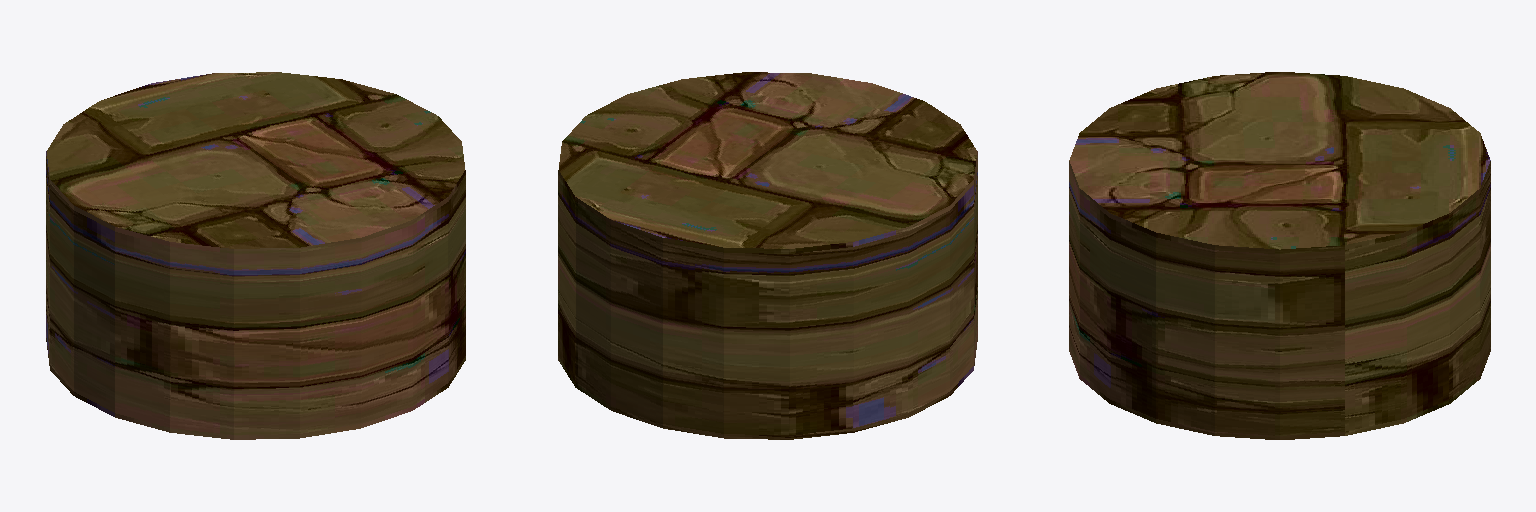
3 renders of one model, left to right at view 1: azimuth 30°, elevation 25°; view 2: azimuth 150°, elevation 25°; view 3: azimuth 270°, elevation 25°, orthographic.
Parts seen in each view (by area): view 1: pCylinder1; view 2: pCylinder1; view 3: pCylinder1.
Part boxes in pixels (bbox=[...]): pCylinder1: bbox=[46, 72, 465, 439]; pCylinder1: bbox=[558, 72, 977, 439]; pCylinder1: bbox=[1069, 72, 1490, 439].
Bounding box in the file's own units: 4 × 2 × 4.
1 materials, 1 textured.